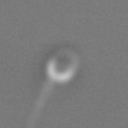normal: (21, 78, 54, 128)
